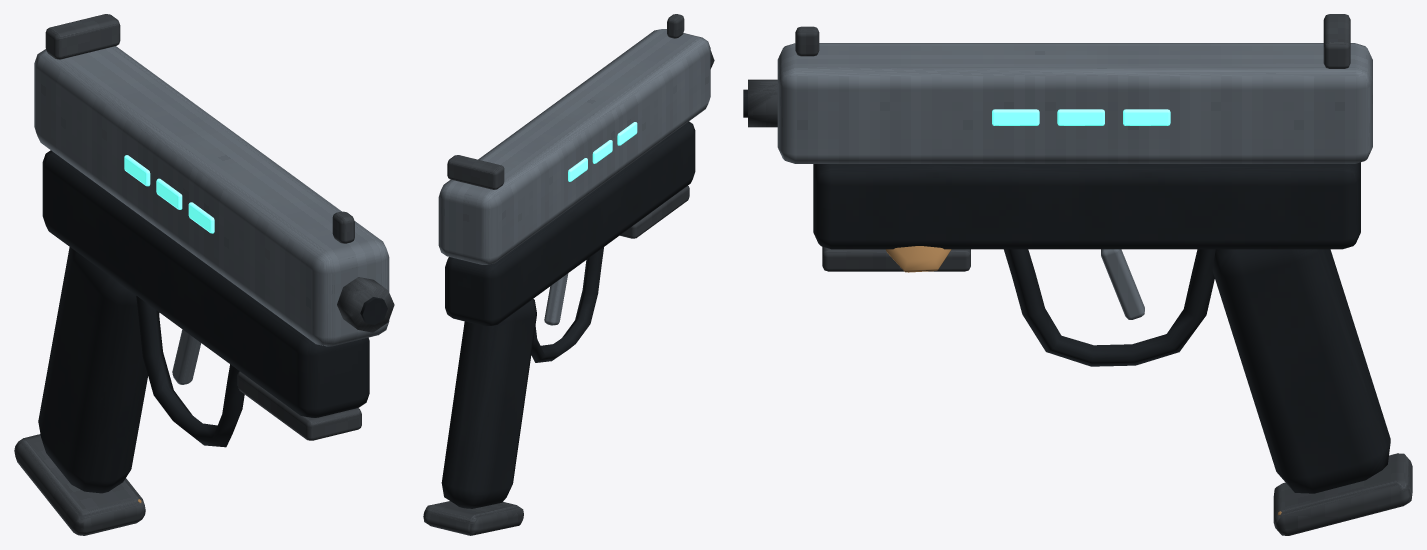
The model's file is sidearm.lod2.glb.
3 renders of one model, left to right at view 1: azimuth 30°, elevation 25°; view 2: azimuth 150°, elevation 25°; view 3: azimuth 270°, elevation 25°, orthographic. The views are drawn at different scales.
Parts seen in each view (by area): view 1: polymer / stippled polymer, alloy / machined anodized alloy, darksteel / oil-blackened fittings, energy / emissive field channel; view 2: polymer / stippled polymer, alloy / machined anodized alloy, darksteel / oil-blackened fittings, energy / emissive field channel; view 3: polymer / stippled polymer, alloy / machined anodized alloy, darksteel / oil-blackened fittings, energy / emissive field channel, peened pin.
Part boxes in pixels (bbox=[...]): polymer / stippled polymer: bbox=[38, 150, 387, 493]; alloy / machined anodized alloy: bbox=[34, 46, 389, 384]; darksteel / oil-blackened fittings: bbox=[14, 14, 394, 535]; energy / emissive field channel: bbox=[124, 155, 214, 233]; polymer / stippled polymer: bbox=[441, 121, 695, 508]; alloy / machined anodized alloy: bbox=[438, 29, 710, 325]; darksteel / oil-blackened fittings: bbox=[423, 14, 714, 535]; energy / emissive field channel: bbox=[568, 122, 637, 181]; polymer / stippled polymer: bbox=[743, 89, 1390, 493]; alloy / machined anodized alloy: bbox=[777, 43, 1372, 319]; darksteel / oil-blackened fittings: bbox=[748, 14, 1412, 535]; energy / emissive field channel: bbox=[992, 109, 1170, 125]; peened pin: bbox=[886, 246, 1281, 515].
Bounding box in the file's own units: 0.0359 × 0.1833 × 0.2248.
5 materials, 3 textured.
